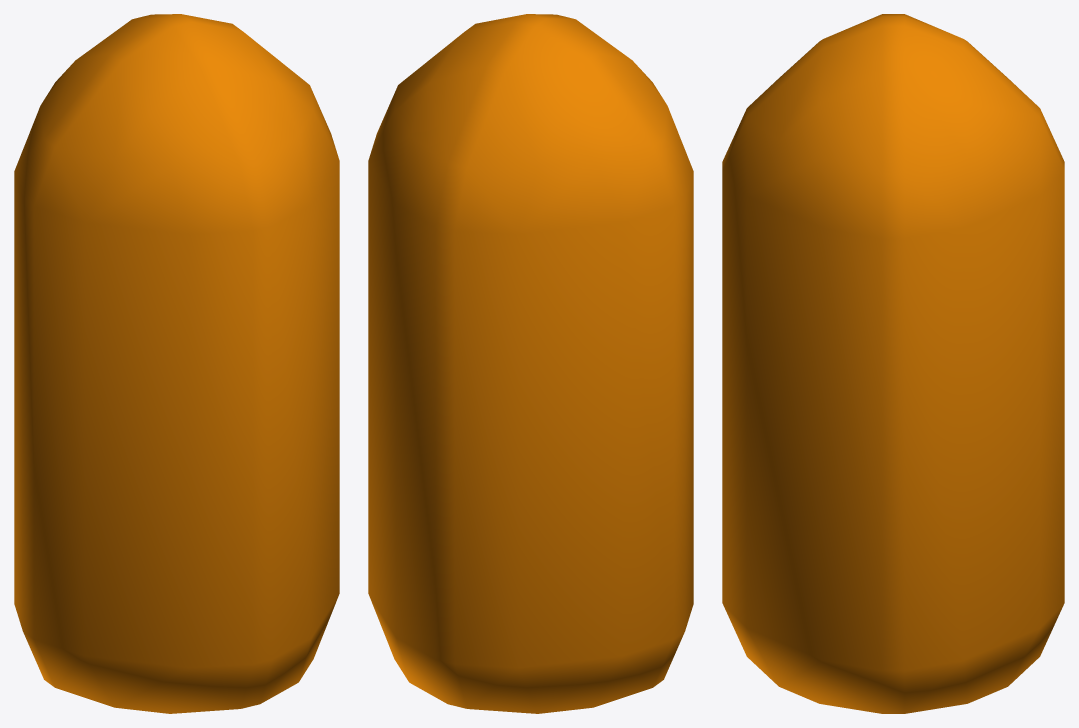
File: bullet.fbx
3 renders of one model, left to right at view 1: azimuth 30°, elevation 25°; view 2: azimuth 150°, elevation 25°; view 3: azimuth 270°, elevation 25°, orthographic.
Parts seen in each view (by area): view 1: bullet; view 2: bullet; view 3: bullet.
Part boxes in pixels (box(x1,y1,x2,y2)): bullet: box(14, 14, 339, 713); bullet: box(368, 14, 693, 713); bullet: box(722, 14, 1064, 713).
Size of the model in its own units: 32.57 by 66.89 by 32.57.
